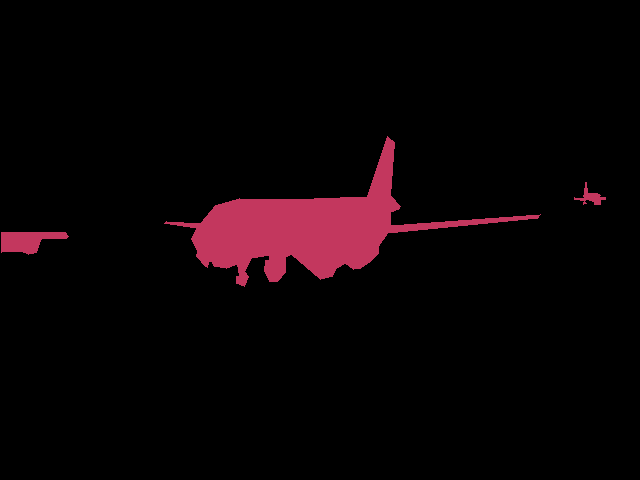Airplane: (164, 136, 540, 286), (1, 232, 69, 255), (574, 182, 606, 205)
